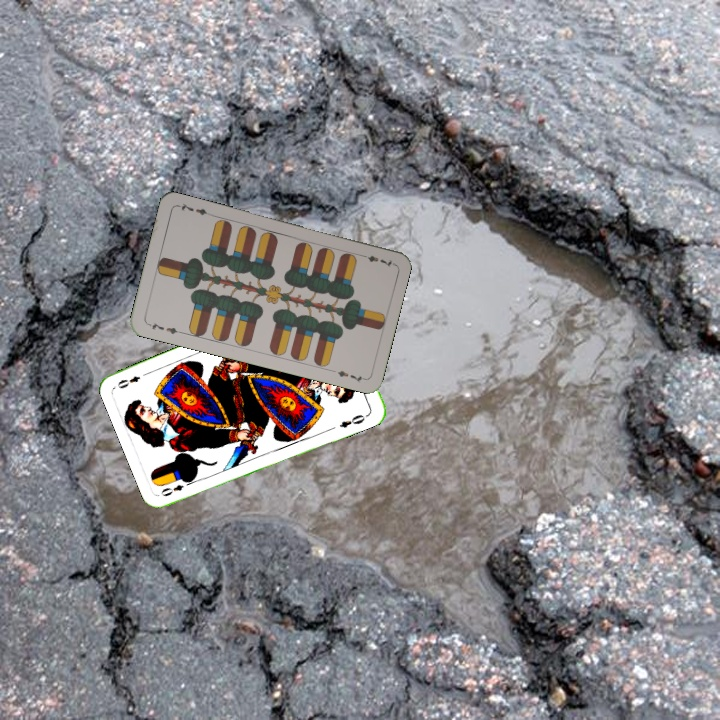E7: (356, 250, 396, 270), (144, 318, 184, 337)
EO: (157, 480, 186, 499)
